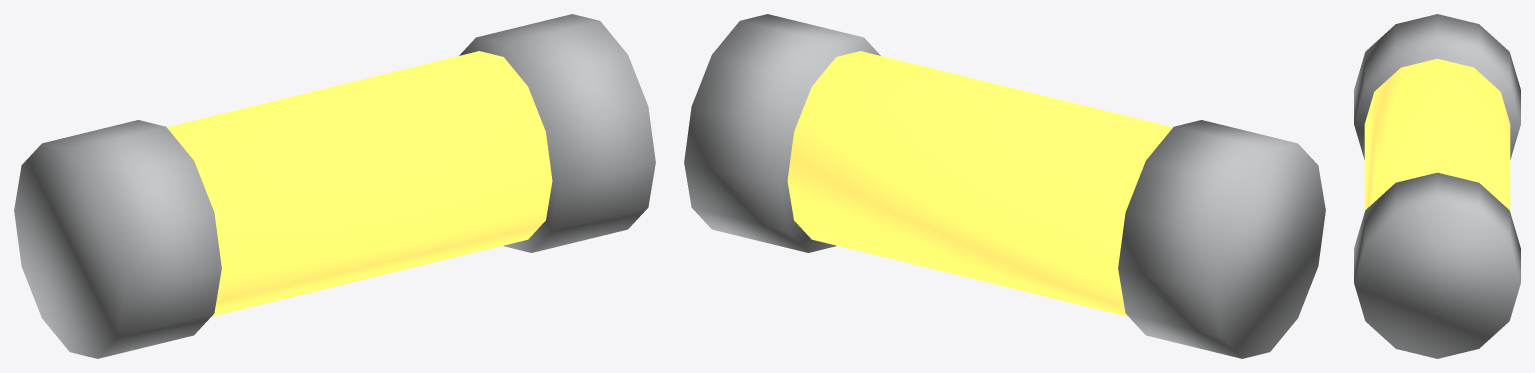
File: fuse.glb
3 views of the same model, side by side, from view 1: azimuth 30°, elevation 25°; view 2: azimuth 150°, elevation 25°; view 3: azimuth 270°, elevation 25° (orthographic). The views are drawn at different scales.
Parts seen in each view (by area): view 1: glow, metal; view 2: glow, metal; view 3: metal, glow.
Boxes of the visible parts, bbox=[...] form: glow: bbox=[167, 51, 552, 316]; metal: bbox=[14, 14, 655, 358]; glow: bbox=[787, 51, 1172, 316]; metal: bbox=[684, 14, 1325, 358]; metal: bbox=[1354, 14, 1520, 358]; glow: bbox=[1364, 58, 1510, 211].
Size of the model in its own units: 0.22 by 0.08 by 0.08.
